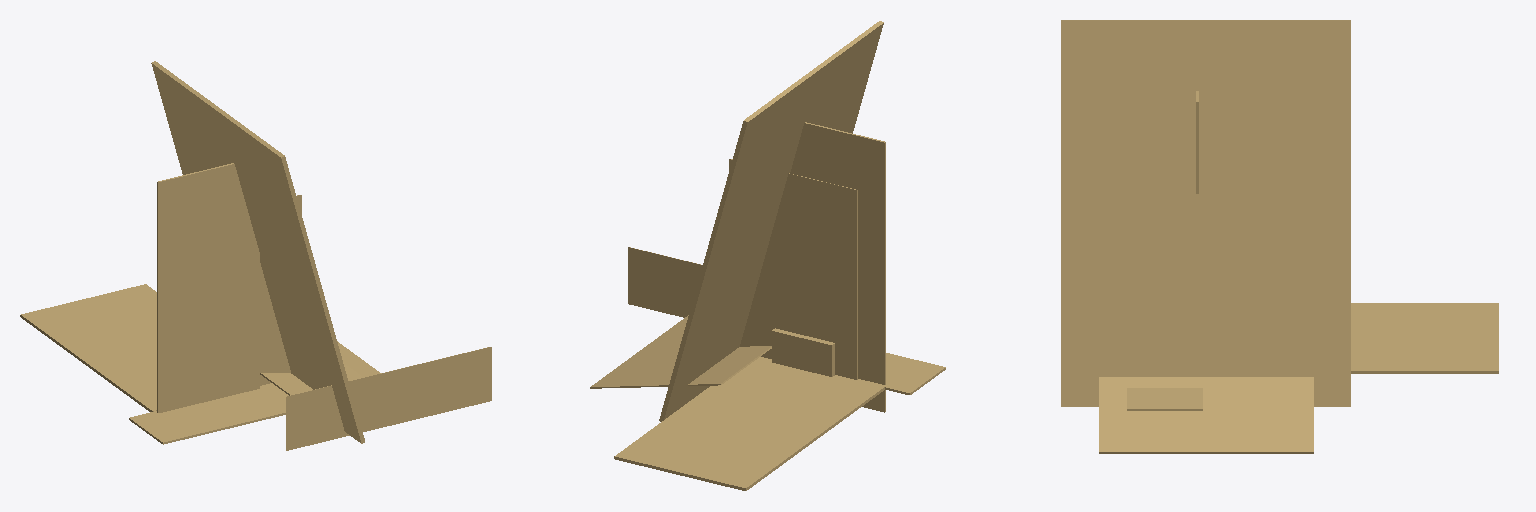
The robot description file, URDF, robot "evolved_design":
<?xml version="1.0" ?>
<robot name="evolved_design">
  <link name="base_link">
    <inertial>
      <mass value="0.001"/>
      <origin xyz="0 0 0" rpy="0 0 0"/>
      <inertia ixx="0.000001" ixy="0" ixz="0" iyy="0.000001" iyz="0" izz="0.000001"/>
    </inertial>
  </link>
  <link name="link_comp_0">
    <inertial>
      <mass value="0.148226"/>
      <origin xyz="0 0 0" rpy="0 0 0"/>
      <inertia ixx="0.000202359" ixy="0" ixz="0" iyy="0.000424693" iyz="0" izz="0.000226318"/>
    </inertial>
    <visual>
      <origin xyz="0 0 0" rpy="0 0 0"/>
      <geometry>
        <box size="0.134762 0.012700 0.127362"/>
      </geometry>
      <material name="link_comp_0_material">
        <color rgba="0.8 0.7 0.5 1"/>
      </material>
    </visual>
    <collision>
      <origin xyz="0 0 0" rpy="0 0 0"/>
      <geometry>
        <box size="0.134762 0.012700 0.127362"/>
      </geometry>
    </collision>
  </link>
  <joint name="base_link_to_link_comp_0" type="fixed">
    <parent link="base_link"/>
    <child link="link_comp_0"/>
    <origin xyz="0.067381 0.006350 0.063681" rpy="0.000000 0.000000 0.000000"/>
  </joint>
  <link name="link_comp_1">
    <inertial>
      <mass value="0.228196"/>
      <origin xyz="0 0 0" rpy="0 0 0"/>
      <inertia ixx="0.000365622" ixy="0" ixz="0" iyy="0.004943317" iyz="0" izz="0.005308082"/>
    </inertial>
    <visual>
      <origin xyz="0 0 0" rpy="0 0 0"/>
      <geometry>
        <box size="0.509832 0.138579 0.004750"/>
      </geometry>
      <material name="link_comp_1_material">
        <color rgba="0.8 0.7 0.5 1"/>
      </material>
    </visual>
    <collision>
      <origin xyz="0 0 0" rpy="0 0 0"/>
      <geometry>
        <box size="0.509832 0.138579 0.004750"/>
      </geometry>
    </collision>
  </link>
  <joint name="base_link_to_link_comp_1" type="fixed">
    <parent link="base_link"/>
    <child link="link_comp_1"/>
    <origin xyz="0.088088 -0.069790 0.056170" rpy="0.000000 0.000000 0.000000"/>
  </joint>
  <link name="link_comp_2">
    <inertial>
      <mass value="0.681705"/>
      <origin xyz="0 0 0" rpy="0 0 0"/>
      <inertia ixx="0.016380963" ixy="0" ixz="0" iyy="0.004913390" iyz="0" izz="0.021289772"/>
    </inertial>
    <visual>
      <origin xyz="0 0 0" rpy="0 0 0"/>
      <geometry>
        <box size="0.294023 0.536947 0.006350"/>
      </geometry>
      <material name="link_comp_2_material">
        <color rgba="0.8 0.7 0.5 1"/>
      </material>
    </visual>
    <collision>
      <origin xyz="0 0 0" rpy="0 0 0"/>
      <geometry>
        <box size="0.294023 0.536947 0.006350"/>
      </geometry>
    </collision>
  </link>
  <joint name="base_link_to_link_comp_2" type="fixed">
    <parent link="base_link"/>
    <child link="link_comp_2"/>
    <origin xyz="0.036494 0.268474 0.056245" rpy="0.000000 0.000000 0.000000"/>
  </joint>
  <link name="link_comp_3">
    <inertial>
      <mass value="0.253974"/>
      <origin xyz="0 0 0" rpy="0 0 0"/>
      <inertia ixx="0.003220805" ixy="0" ixz="0" iyy="0.001924868" iyz="0" izz="0.005145247"/>
    </inertial>
    <visual>
      <origin xyz="0 0 0" rpy="0 0 0"/>
      <geometry>
        <box size="0.301559 0.390089 0.003175"/>
      </geometry>
      <material name="link_comp_3_material">
        <color rgba="0.8 0.7 0.5 1"/>
      </material>
    </visual>
    <collision>
      <origin xyz="0 0 0" rpy="0 0 0"/>
      <geometry>
        <box size="0.301559 0.390089 0.003175"/>
      </geometry>
    </collision>
  </link>
  <joint name="base_link_to_link_comp_3" type="fixed">
    <parent link="base_link"/>
    <child link="link_comp_3"/>
    <origin xyz="0.286042 0.005262 0.049143" rpy="0.000000 0.252251 0.000000"/>
  </joint>
  <link name="link_comp_4">
    <inertial>
      <mass value="2.429465"/>
      <origin xyz="0 0 0" rpy="0 0 0"/>
      <inertia ixx="0.158677460" ixy="0" ixz="0" iyy="0.102332382" iyz="0" izz="0.056381814"/>
    </inertial>
    <visual>
      <origin xyz="0 0 0" rpy="0 0 0"/>
      <geometry>
        <box size="0.009525 0.527636 0.710891"/>
      </geometry>
      <material name="link_comp_4_material">
        <color rgba="0.8 0.7 0.5 1"/>
      </material>
    </visual>
    <collision>
      <origin xyz="0 0 0" rpy="0 0 0"/>
      <geometry>
        <box size="0.009525 0.527636 0.710891"/>
      </geometry>
    </collision>
  </link>
  <joint name="base_link_to_link_comp_4" type="fixed">
    <parent link="base_link"/>
    <child link="link_comp_4"/>
    <origin xyz="0.140025 0.004392 0.355445" rpy="0.000000 -0.268840 0.000000"/>
  </joint>
  <link name="link_comp_5">
    <inertial>
      <mass value="0.040015"/>
      <origin xyz="0 0 0" rpy="0 0 0"/>
      <inertia ixx="0.000049658" ixy="0" ixz="0" iyy="0.000825083" iyz="0" izz="0.000775431"/>
    </inertial>
    <visual>
      <origin xyz="0 0 0" rpy="0 0 0"/>
      <geometry>
        <box size="0.482226 0.001000 0.122029"/>
      </geometry>
      <material name="link_comp_5_material">
        <color rgba="0.8 0.7 0.5 1"/>
      </material>
    </visual>
    <collision>
      <origin xyz="0 0 0" rpy="0 0 0"/>
      <geometry>
        <box size="0.482226 0.001000 0.122029"/>
      </geometry>
    </collision>
  </link>
  <joint name="base_link_to_link_comp_5" type="fixed">
    <parent link="base_link"/>
    <child link="link_comp_5"/>
    <origin xyz="0.332709 -0.190663 0.061014" rpy="0.000000 0.000000 0.000000"/>
  </joint>
  <link name="link_comp_6">
    <inertial>
      <mass value="0.447775"/>
      <origin xyz="0 0 0" rpy="0 0 0"/>
      <inertia ixx="0.012396450" ixy="0" ixz="0" iyy="0.014554545" iyz="0" izz="0.002159779"/>
    </inertial>
    <visual>
      <origin xyz="0 0 0" rpy="0 0 0"/>
      <geometry>
        <box size="0.240536 0.004750 0.576361"/>
      </geometry>
      <material name="link_comp_6_material">
        <color rgba="0.8 0.7 0.5 1"/>
      </material>
    </visual>
    <collision>
      <origin xyz="0 0 0" rpy="0 0 0"/>
      <geometry>
        <box size="0.240536 0.004750 0.576361"/>
      </geometry>
    </collision>
  </link>
  <joint name="base_link_to_link_comp_6" type="fixed">
    <parent link="base_link"/>
    <child link="link_comp_6"/>
    <origin xyz="0.014494 -0.010823 0.288181" rpy="0.000000 0.000000 0.000000"/>
  </joint>
  <link name="link_comp_7">
    <inertial>
      <mass value="0.138134"/>
      <origin xyz="0 0 0" rpy="0 0 0"/>
      <inertia ixx="0.002485547" ixy="0" ixz="0" iyy="0.003432714" iyz="0" izz="0.000947220"/>
    </inertial>
    <visual>
      <origin xyz="0 0 0" rpy="0 0 0"/>
      <geometry>
        <box size="0.286853 0.001524 0.464674"/>
      </geometry>
      <material name="link_comp_7_material">
        <color rgba="0.8 0.7 0.5 1"/>
      </material>
    </visual>
    <collision>
      <origin xyz="0 0 0" rpy="0 0 0"/>
      <geometry>
        <box size="0.286853 0.001524 0.464674"/>
      </geometry>
    </collision>
  </link>
  <joint name="base_link_to_link_comp_7" type="fixed">
    <parent link="base_link"/>
    <child link="link_comp_7"/>
    <origin xyz="0.094326 -0.001262 0.232337" rpy="0.000000 0.000000 0.000000"/>
  </joint>
</robot>

--- What the picture shows (computed from the rendered views, not written in the file) ---
Views: 3 orthographic renders of the robot side by side, from view 1: azimuth 30°, elevation 25°; view 2: azimuth 150°, elevation 25°; view 3: azimuth 270°, elevation 25°.
Model evolved_design with 9 links and 8 joints (8 fixed), rooted at base_link, posed every joint at zero.
Visible links, largest first — view 1: link_comp_6, link_comp_4, link_comp_5, link_comp_2, link_comp_1, link_comp_7, link_comp_3; view 2: link_comp_4, link_comp_2, link_comp_7, link_comp_6, link_comp_3, link_comp_5, link_comp_0, link_comp_1; view 3: link_comp_4, link_comp_3, link_comp_2, link_comp_1.
Boxes of the visible links, left/top/right/bottom form: link_comp_6: left=157, top=163, right=259, bottom=412; link_comp_4: left=151, top=61, right=364, bottom=443; link_comp_5: left=286, top=347, right=491, bottom=450; link_comp_2: left=20, top=284, right=156, bottom=411; link_comp_1: left=129, top=365, right=363, bottom=444; link_comp_7: left=260, top=195, right=301, bottom=385; link_comp_3: left=260, top=341, right=380, bottom=395; link_comp_4: left=659, top=21, right=883, bottom=421; link_comp_2: left=614, top=357, right=884, bottom=490; link_comp_7: left=729, top=159, right=857, bottom=379; link_comp_6: left=790, top=122, right=885, bottom=412; link_comp_3: left=590, top=315, right=771, bottom=388; link_comp_5: left=628, top=247, right=702, bottom=317; link_comp_0: left=772, top=328, right=834, bottom=376; link_comp_1: left=858, top=353, right=945, bottom=394; link_comp_4: left=1061, top=20, right=1350, bottom=406; link_comp_3: left=1099, top=377, right=1313, bottom=453; link_comp_2: left=1351, top=303, right=1498, bottom=373; link_comp_1: left=1127, top=388, right=1202, bottom=410.
Size in the robot's own frame: 0.7407 by 0.7964 by 0.6994 metres.
Geometry: primitives only (box / cylinder / sphere), no mesh files.